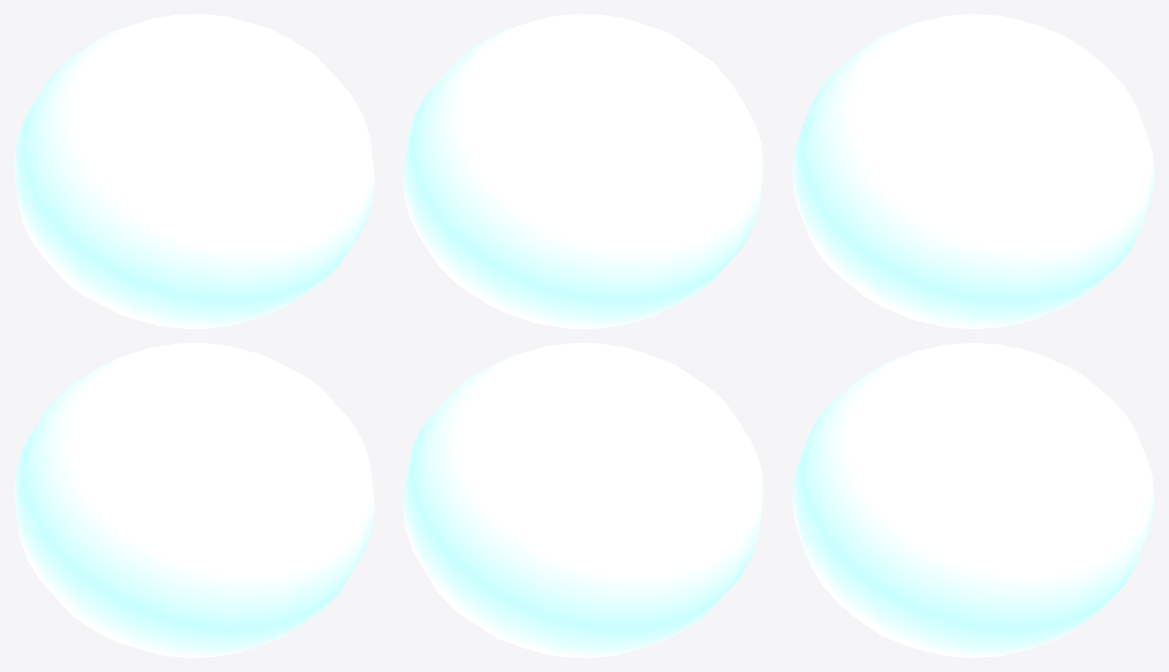
3 views of the same model, side by side, from view 1: azimuth 30°, elevation 25°; view 2: azimuth 150°, elevation 25°; view 3: azimuth 270°, elevation 25° (orthographic).
Parts seen in each view (by area): view 1: pi_haze; view 2: pi_haze; view 3: pi_haze.
Part boxes in pixels (bbox=[...]): pi_haze: bbox=[14, 14, 374, 657]; pi_haze: bbox=[403, 14, 763, 657]; pi_haze: bbox=[792, 14, 1154, 657].
Size of the model in its own units: 0.3299 by 0.6079 by 0.3299.
